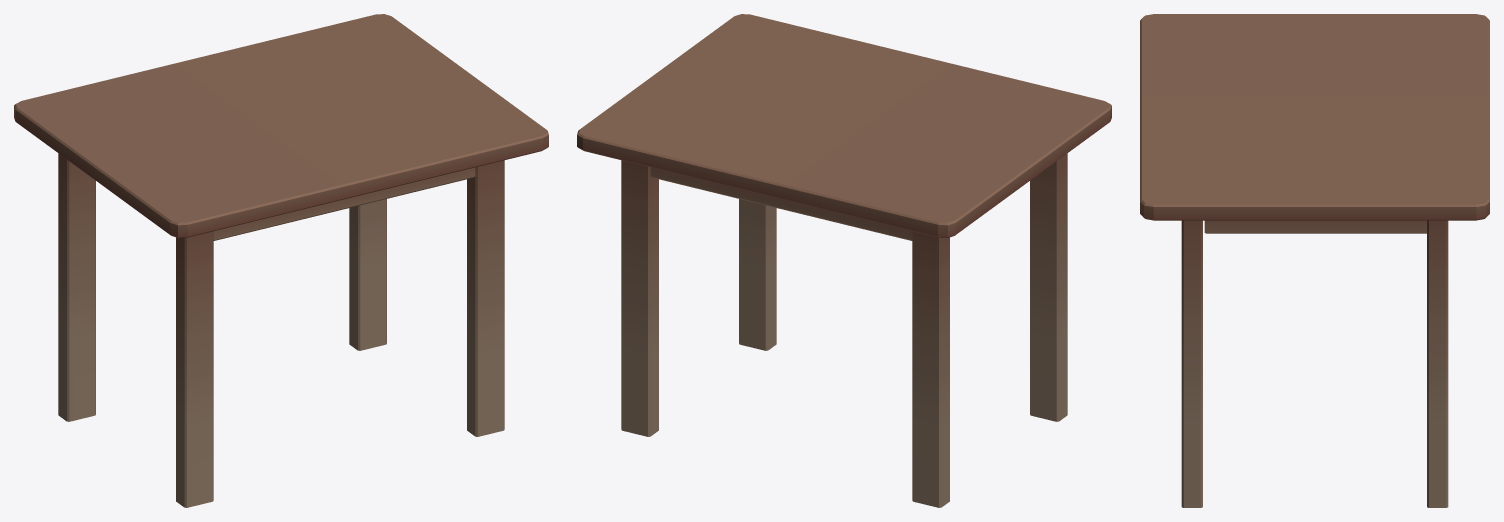
The picture shows the model from 3 angles, left to right: view 1: azimuth 30°, elevation 25°; view 2: azimuth 150°, elevation 25°; view 3: azimuth 270°, elevation 25°; orthographic projection. The views are drawn at different scales.
Visible parts, largest first — view 1: Object_2; view 2: Object_2; view 3: Object_2.
Part boxes in pixels (box(x1,y1,x2,y2)): Object_2: box(14, 14, 548, 507); Object_2: box(577, 14, 1111, 507); Object_2: box(1140, 14, 1489, 507).
Bounding box in the file's own units: 26 × 20 × 20.
1 material, 1 textured.
